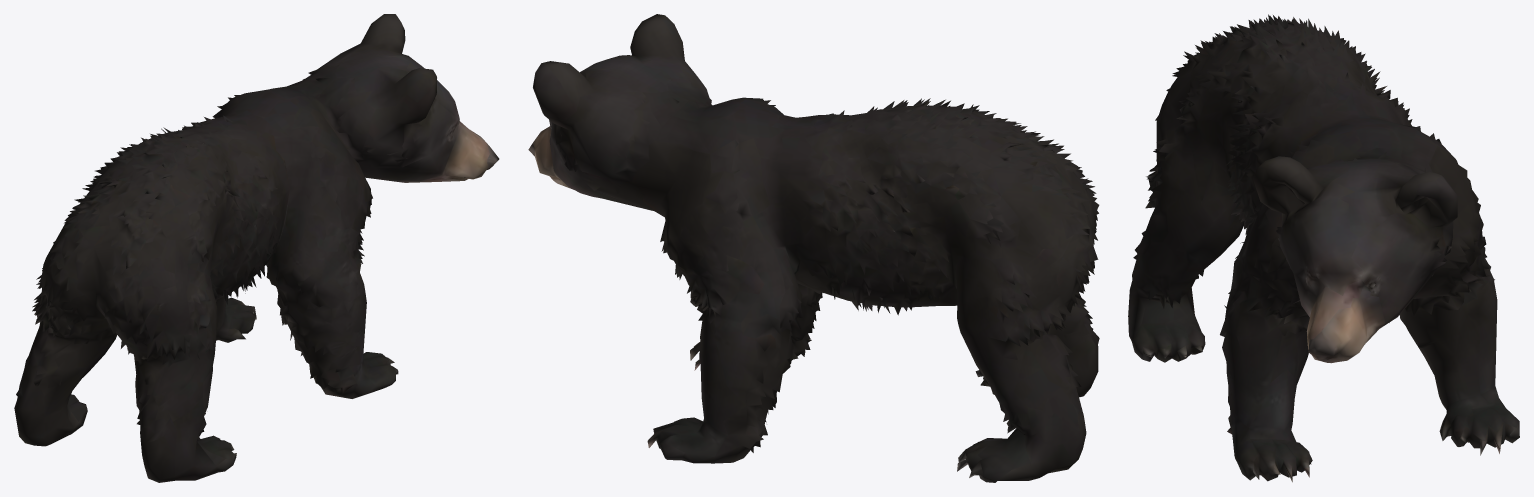
Rendered from bear.glb.
The picture shows the model from 3 angles, left to right: view 1: azimuth 30°, elevation 25°; view 2: azimuth 150°, elevation 25°; view 3: azimuth 270°, elevation 25°; orthographic projection. The views are drawn at different scales.
Parts seen in each view (by area): view 1: tripo_node_f4c7405c-441a-4157-89ac-9d4758cb2330; view 2: tripo_node_f4c7405c-441a-4157-89ac-9d4758cb2330; view 3: tripo_node_f4c7405c-441a-4157-89ac-9d4758cb2330.
Boxes of the visible parts, x1,y1,x2,y2 form: tripo_node_f4c7405c-441a-4157-89ac-9d4758cb2330: (14, 14, 499, 482); tripo_node_f4c7405c-441a-4157-89ac-9d4758cb2330: (528, 14, 1099, 482); tripo_node_f4c7405c-441a-4157-89ac-9d4758cb2330: (1128, 14, 1519, 482).
Size of the model in its own units: 0.9991 by 0.5875 by 0.5923.
Materials: 1 (1 with a texture image).
